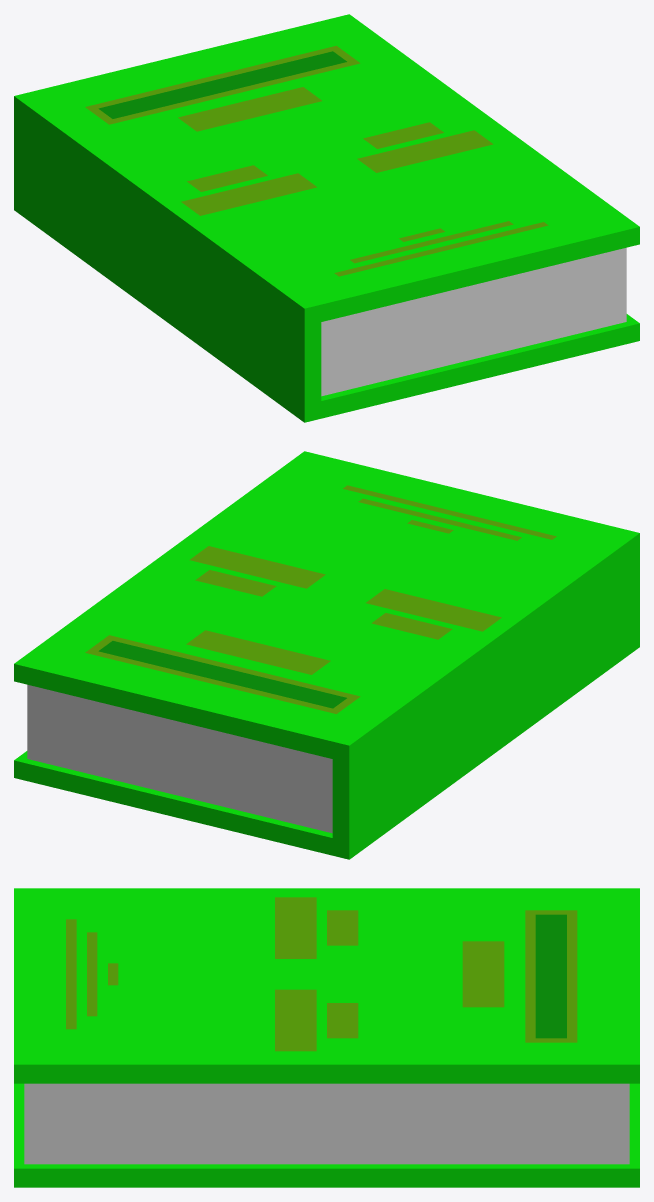
File: Book2.obj
3 renders of one model, top to bottom at view 1: azimuth 30°, elevation 25°; view 2: azimuth 150°, elevation 25°; view 3: azimuth 270°, elevation 25°, orthographic. The views are drawn at different scales.
Bounding box in the file's own units: 4 × 1.3 × 6.
Materials: 1 (1 with a texture image).
